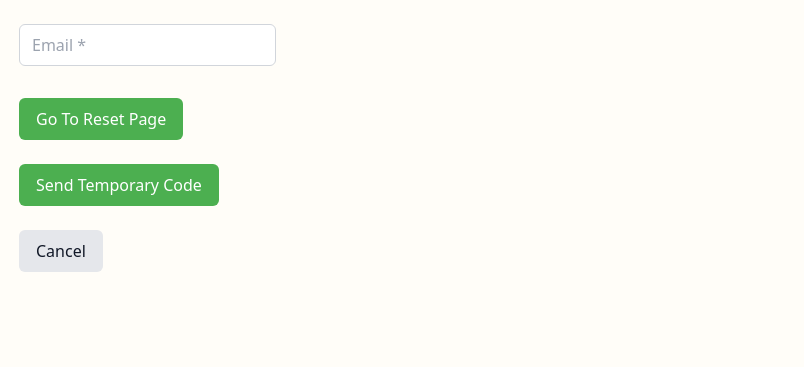
Scenario: ForgotPasswordForm › shows validation for invalid email format
The width and height of the screenshot is (804, 367).
In the field named "Email*": (148, 45) x1=19 y1=24 x2=276 y2=66, type "bad-email"
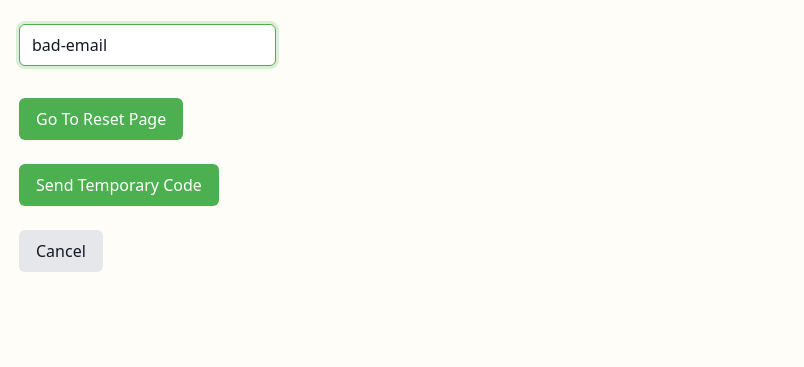
Click the button "Send Temporary Code": (119, 185) x1=19 y1=164 x2=219 y2=206
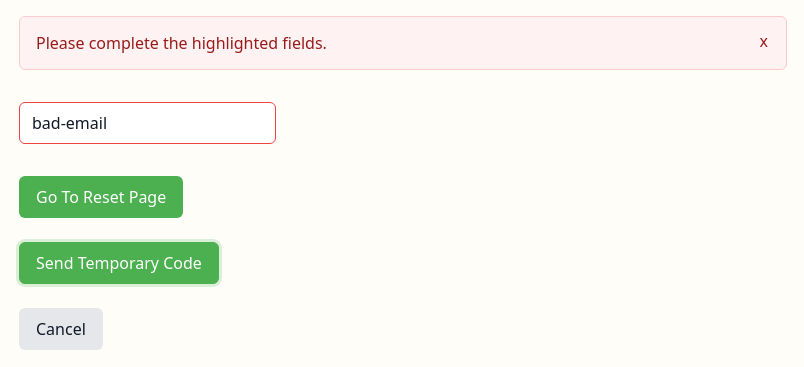
Check: the text "Please complete the highlighted fields." is shown, box x1=36 y1=31 x2=327 y2=55
